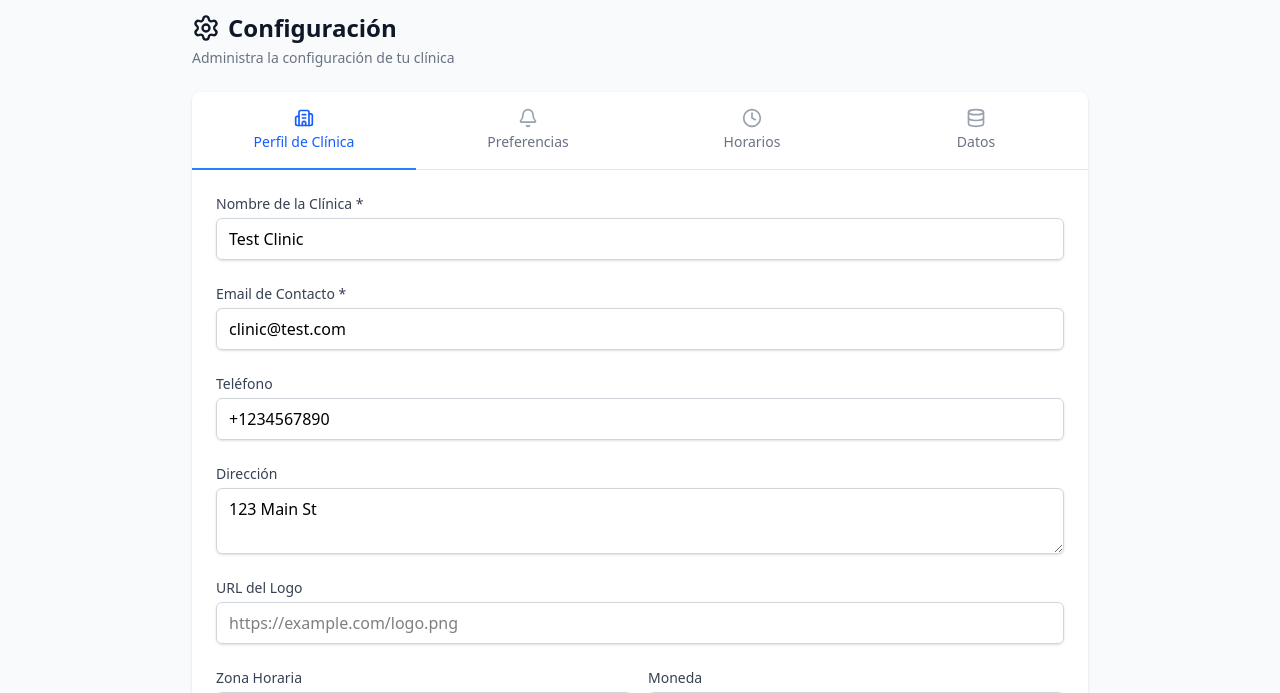
Test case: SettingsPage › should show data export form for OWNER
Click the button "Datos" at (976,131), box left=864, top=92, right=1088, bottom=170
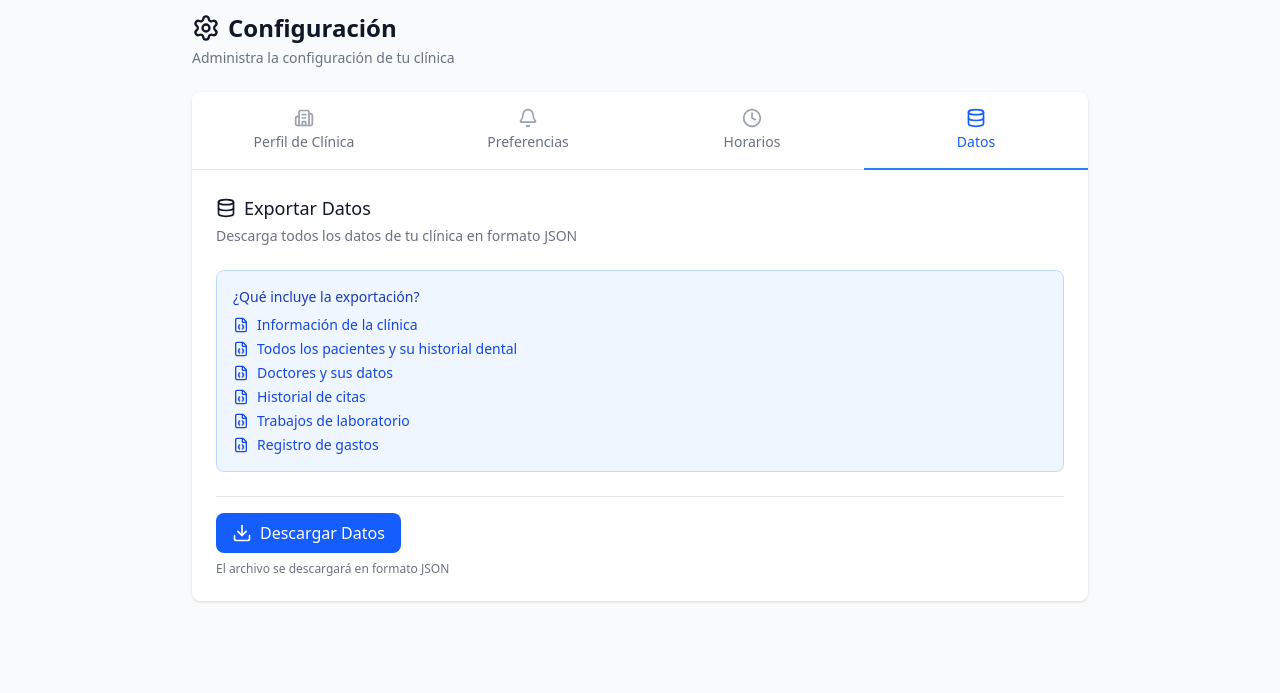
Result: the heading "Exportar Datos" is shown at left=216, top=196, right=371, bottom=220
Result: the button "Descargar Datos" is shown at left=216, top=513, right=401, bottom=553
